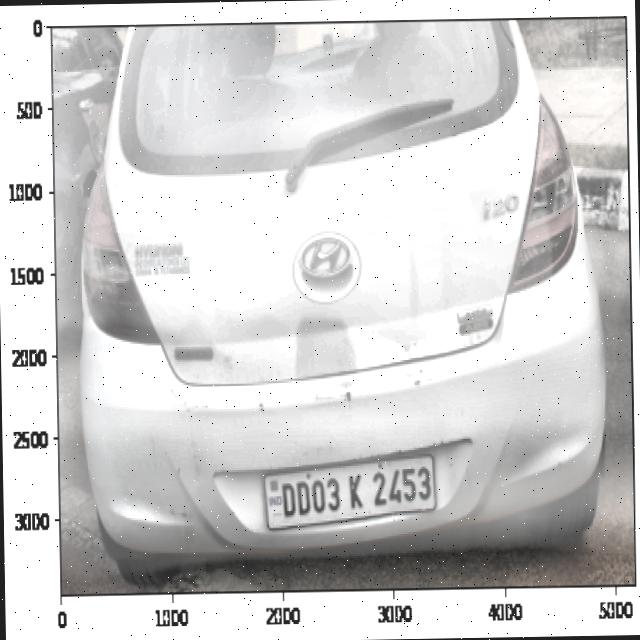license_plate: (277, 459, 436, 520)
